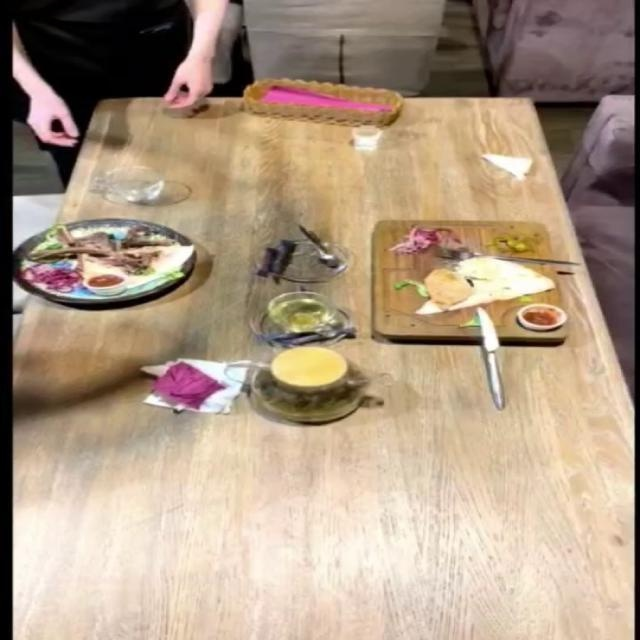meat: (0, 206, 200, 337), (365, 216, 569, 344)
tea: (237, 341, 367, 439)
